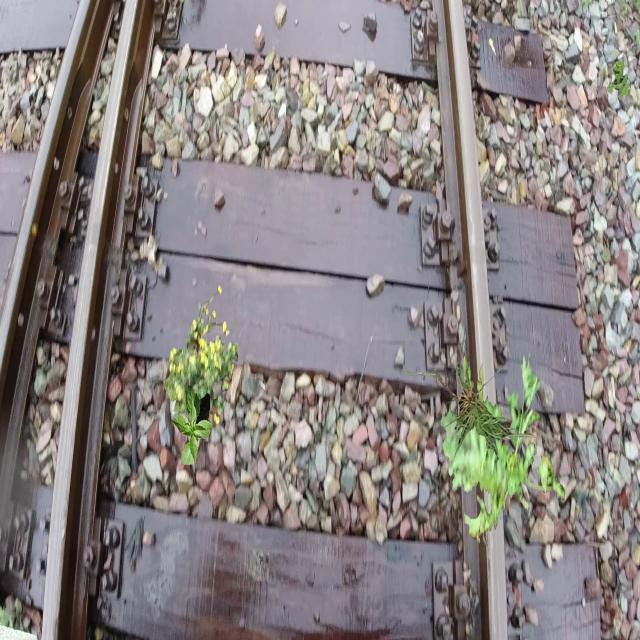Plant: (441, 351, 566, 547), (403, 341, 546, 461), (163, 285, 238, 425), (171, 385, 213, 465), (607, 60, 631, 101)
